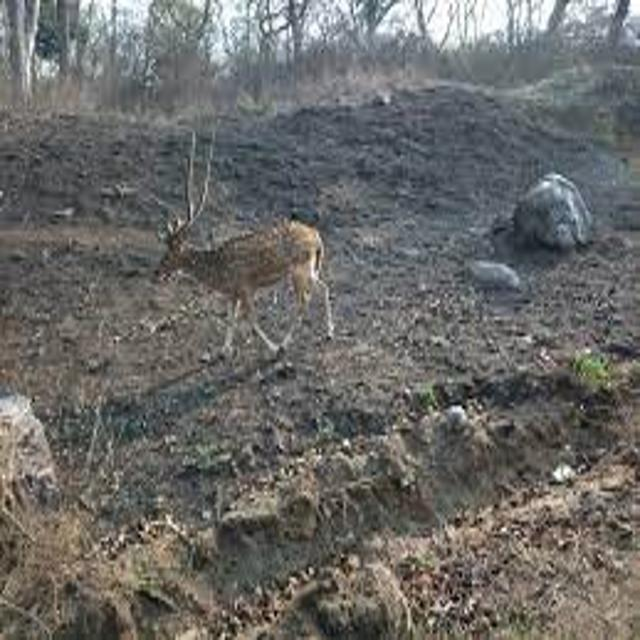deer: (129, 97, 369, 397)
